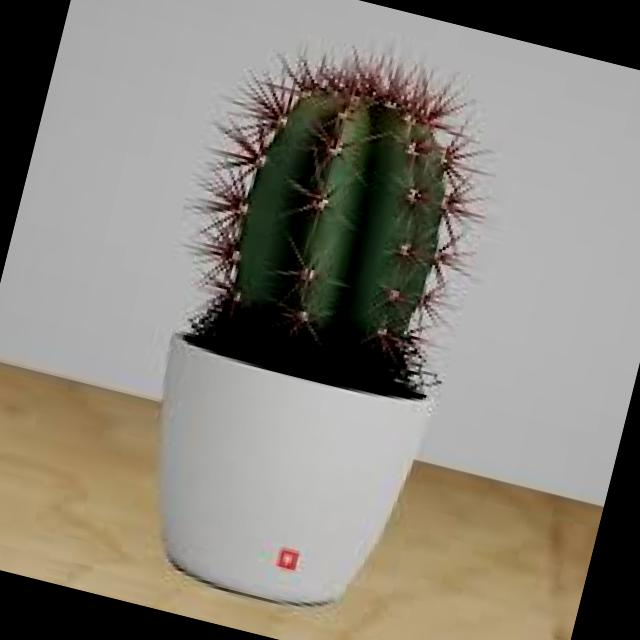cactus: (161, 0, 528, 384)
